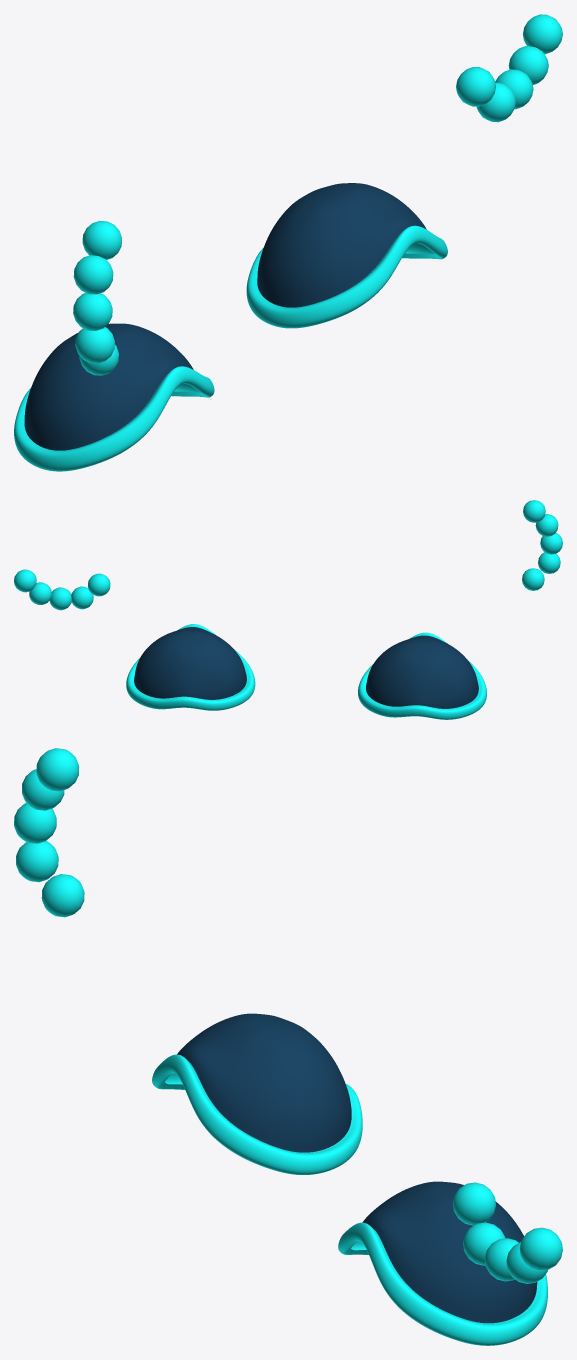
The picture shows the model from 3 angles, top to bottom: view 1: azimuth 30°, elevation 25°; view 2: azimuth 150°, elevation 25°; view 3: azimuth 270°, elevation 25°; orthographic projection. The views are drawn at different scales.
Parts seen in each view (by area): view 1: turtle_shell_002, hand_decor_002, hand_decor_003; view 2: turtle_shell_002, hand_decor_003, hand_decor_002; view 3: turtle_shell_002, hand_decor_002, hand_decor_003.
Part boxes in pixels (<box>): turtle_shell_002: <box>14,183,447,471</box>; hand_decor_002: <box>73,221,121,375</box>; hand_decor_003: <box>456,14,562,122</box>; turtle_shell_002: <box>126,624,486,719</box>; hand_decor_003: <box>14,569,110,610</box>; hand_decor_002: <box>522,500,562,590</box>; turtle_shell_002: <box>152,1013,547,1345</box>; hand_decor_002: <box>14,748,84,917</box>; hand_decor_003: <box>452,1182,562,1283</box>.
Bounding box in the file's own units: 130 × 79.44 × 53.12.
